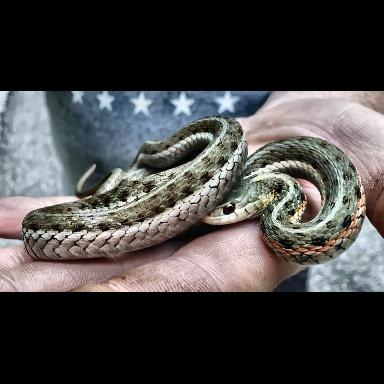snake: (20, 117, 365, 267)
